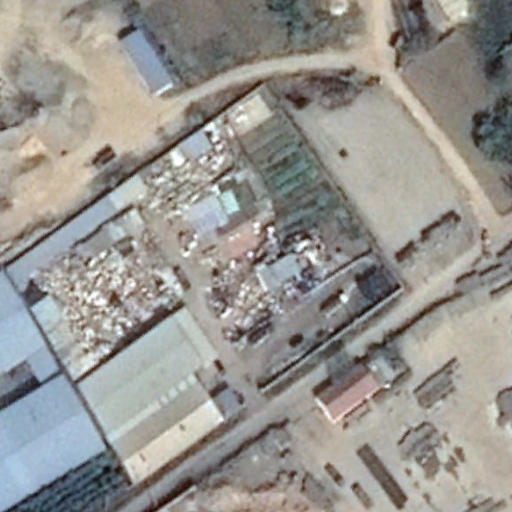msw: (38, 223, 179, 362), (209, 229, 328, 341), (143, 137, 244, 212)
